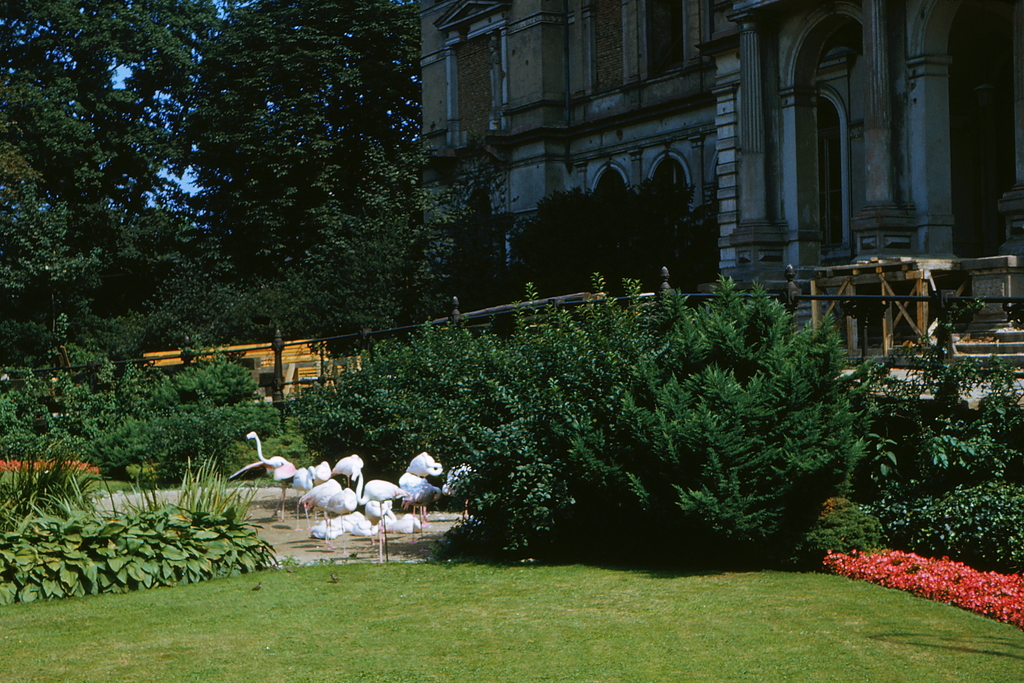Tree: (0, 0, 518, 375)
